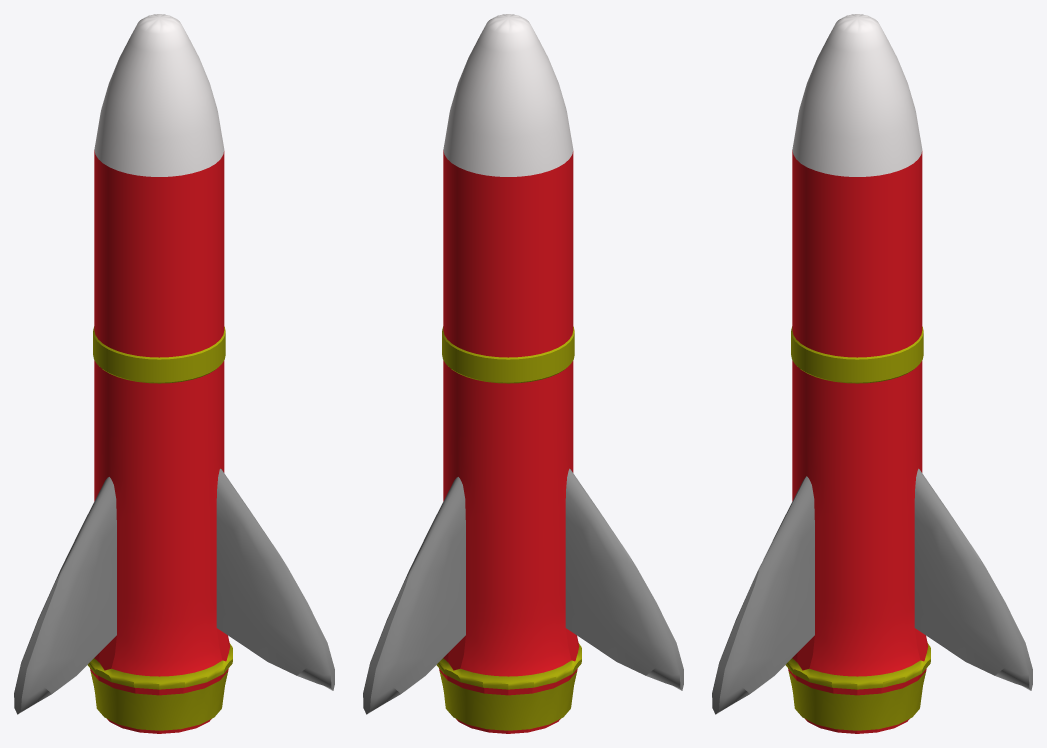
File: missileTypeA.FBX
3 views of the same model, side by side, from view 1: azimuth 30°, elevation 25°; view 2: azimuth 150°, elevation 25°; view 3: azimuth 270°, elevation 25° (orthographic).
Visible parts, largest first — view 1: missileType1; view 2: missileType1; view 3: missileType1.
Boxes of the visible parts, left/top/right/bottom form: missileType1: left=14, top=14, right=334, bottom=733; missileType1: left=363, top=14, right=683, bottom=733; missileType1: left=712, top=14, right=1032, bottom=733.
Size of the model in its own units: 633 by 1573 by 661.
